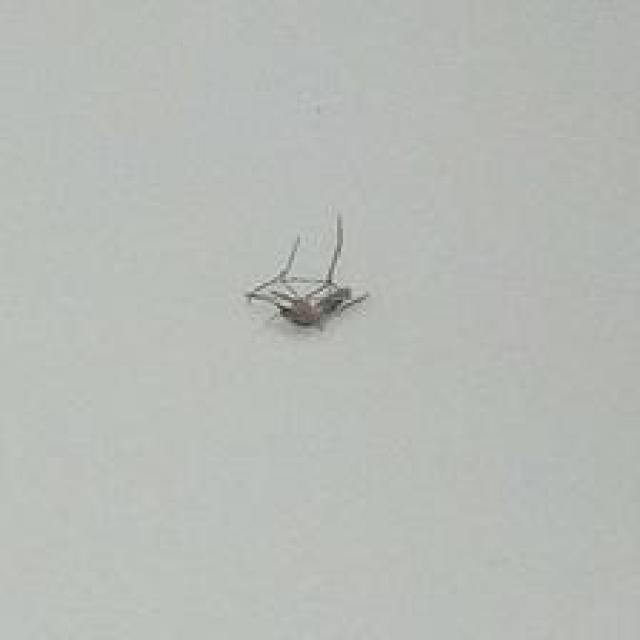Culex: (244, 210, 370, 333)
